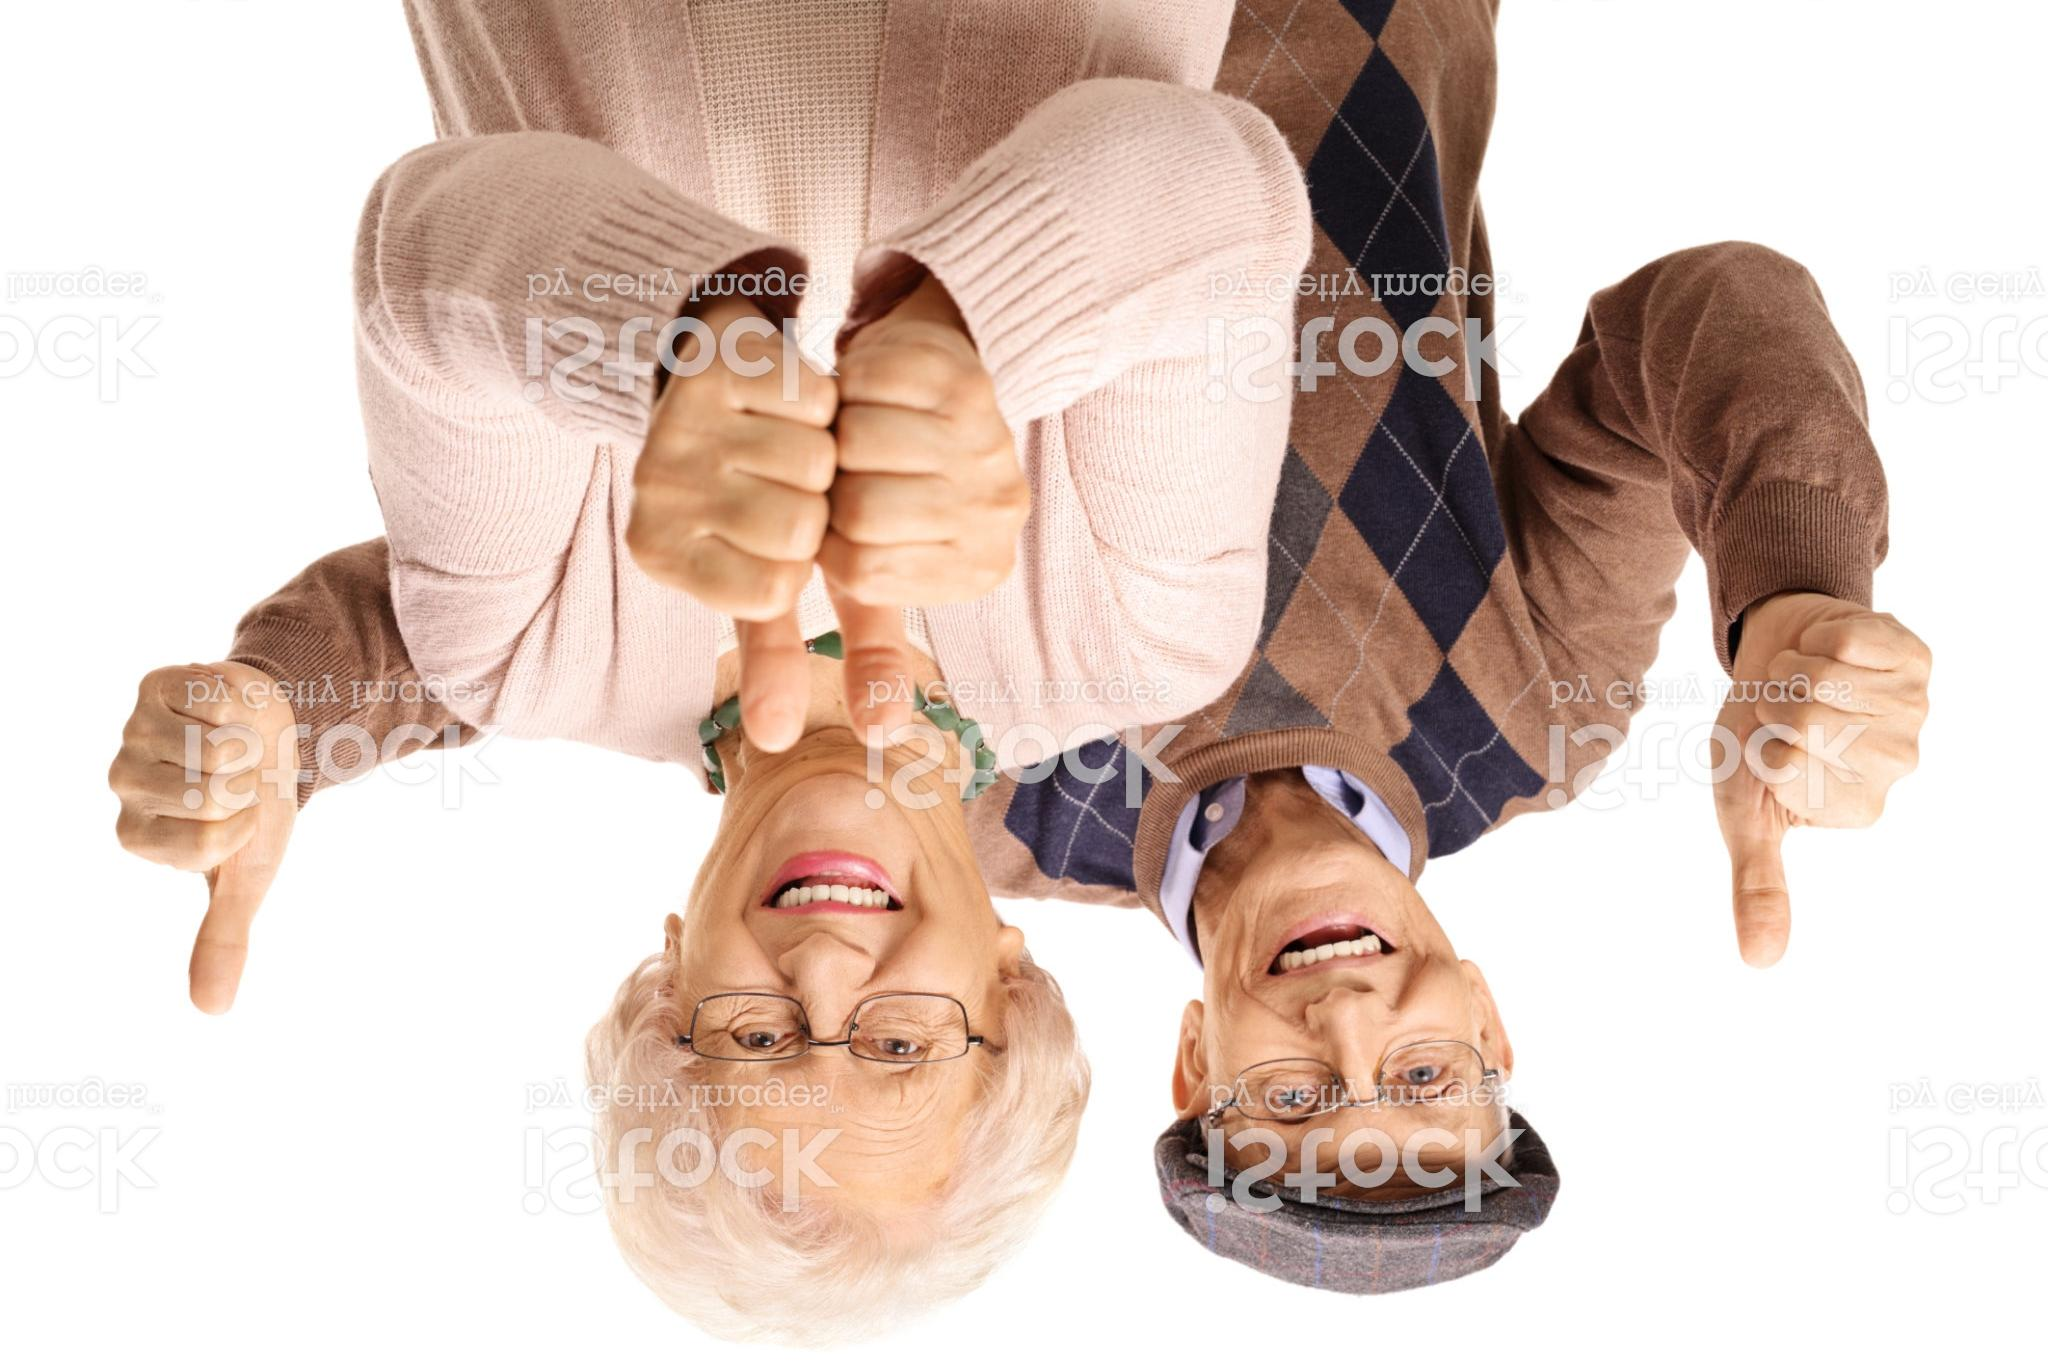thumbsdown: (622, 320, 840, 758), (824, 319, 1036, 752), (1705, 588, 1937, 973), (108, 649, 299, 1017)
